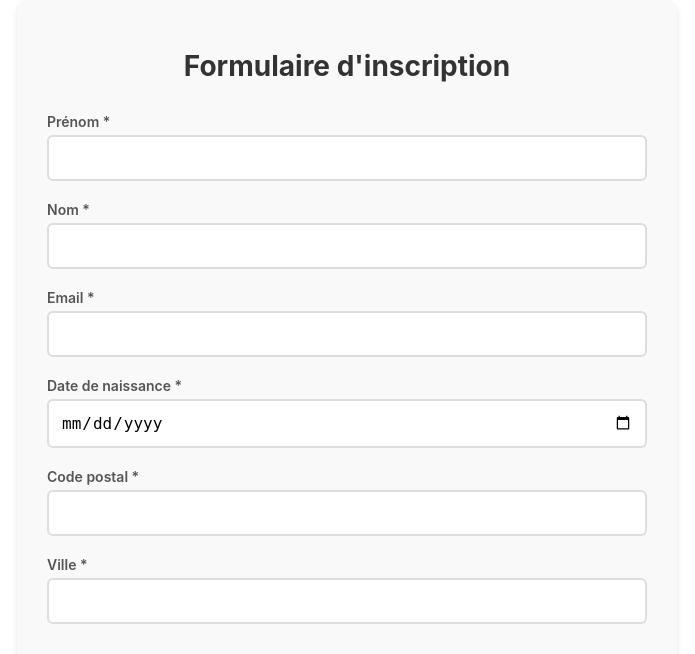
Test: UserForm - Tests d'intégration › Validation en temps réel - Scénarios chaotiques › rejette un code postal avec des lettres
Type "750AB" into the field labelled "Code postal *" at (347, 513), box x1=47 y1=490 x2=647 y2=536
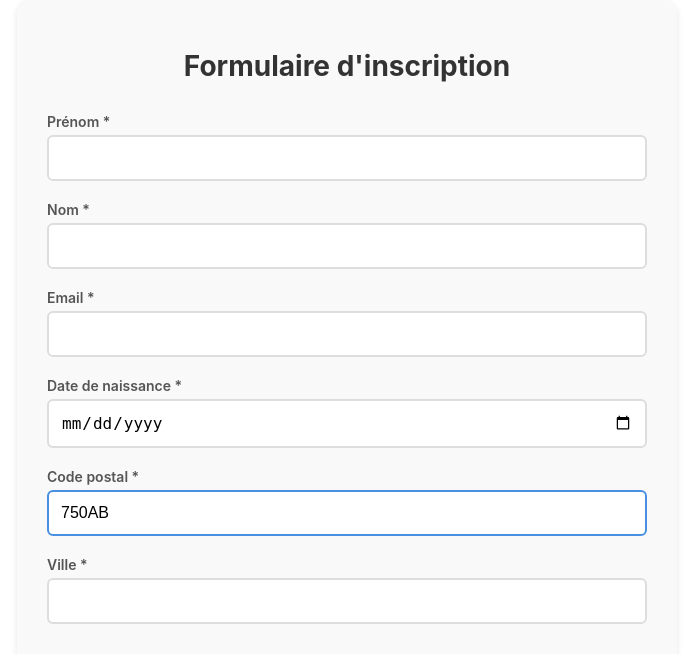
Press Tab
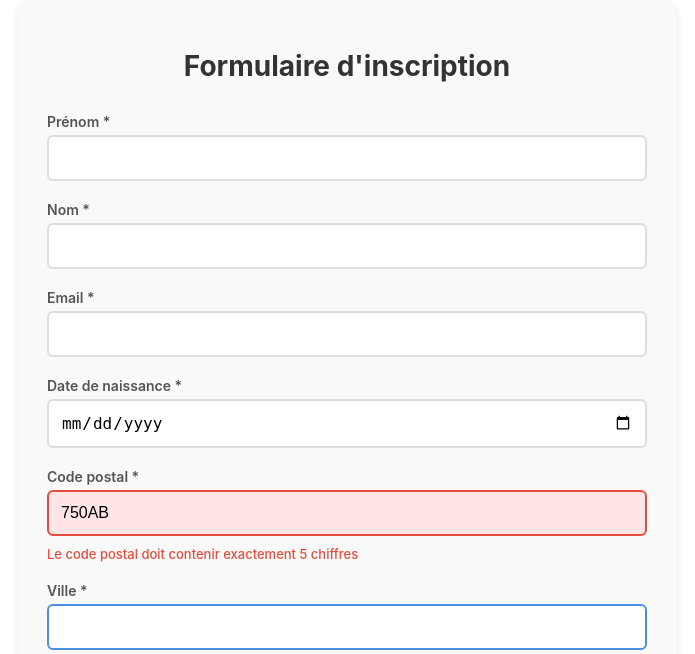
Now the message shows "5 chiffres", box x1=47 y1=546 x2=358 y2=562
